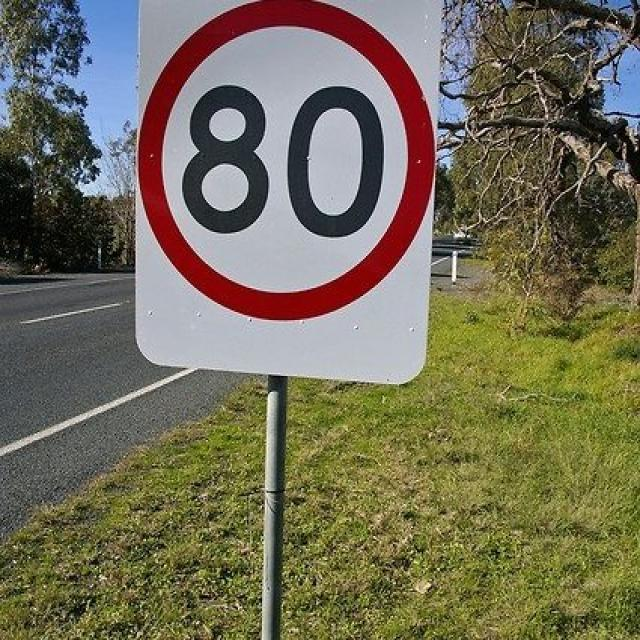Speed Limit -80-: (182, 81, 385, 243)
